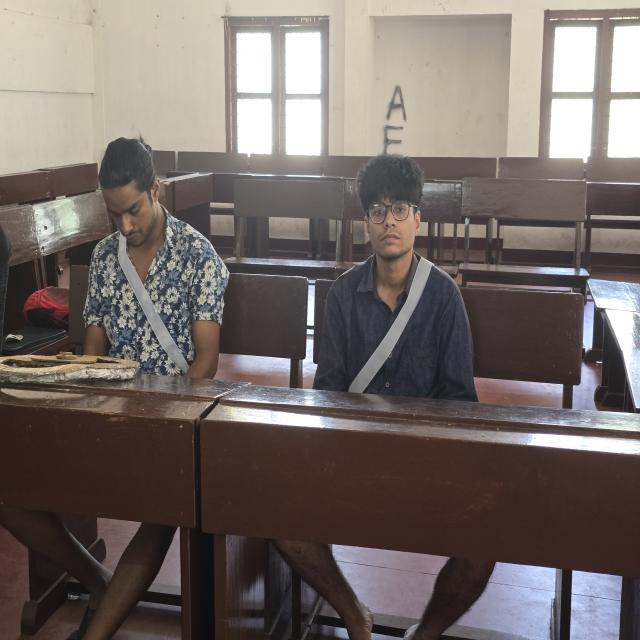seatbelt: (345, 253, 434, 400), (114, 225, 190, 378)
